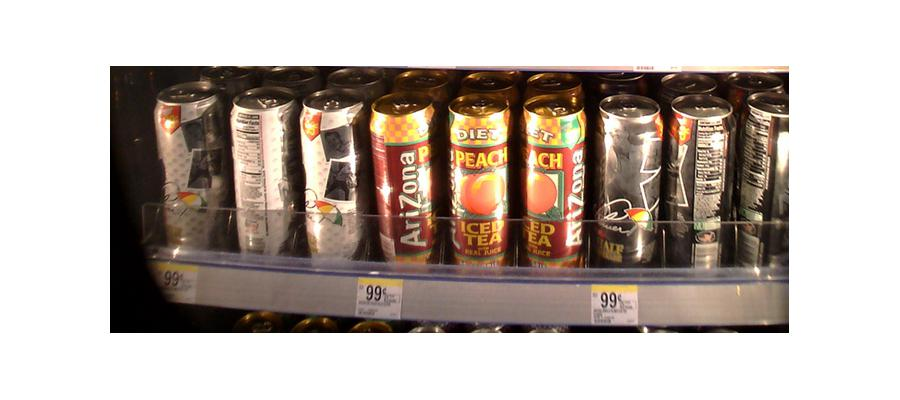bottle: (520, 91, 588, 270), (371, 93, 439, 270), (156, 84, 224, 257), (595, 94, 661, 269), (667, 97, 732, 273), (299, 90, 364, 265), (228, 88, 294, 258), (449, 93, 511, 269), (740, 85, 787, 274)
